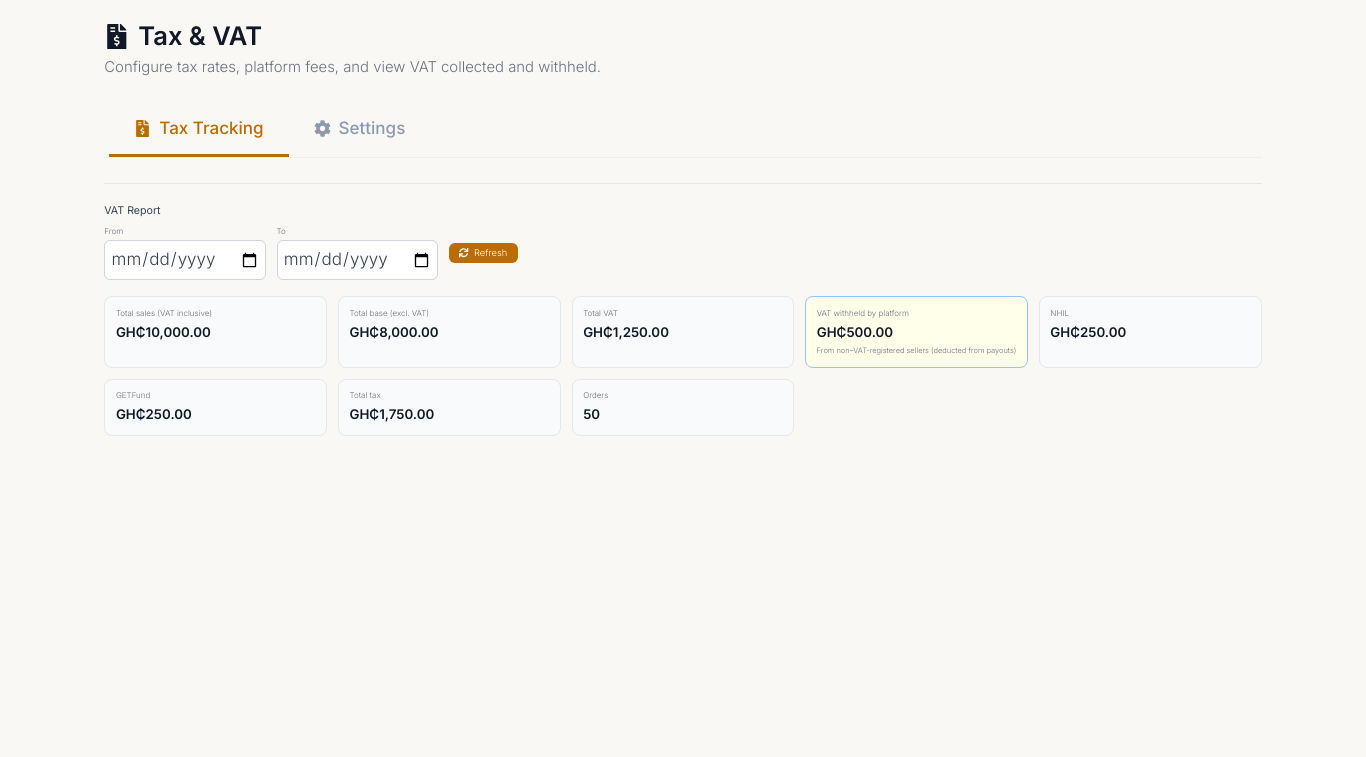
Scenario: TaxReportPage › switches to settings tab and allows changing rates
Click the text "Settings". click: {"x": 359, "y": 128}
box: top-left (314, 118), bottom-right (405, 138)
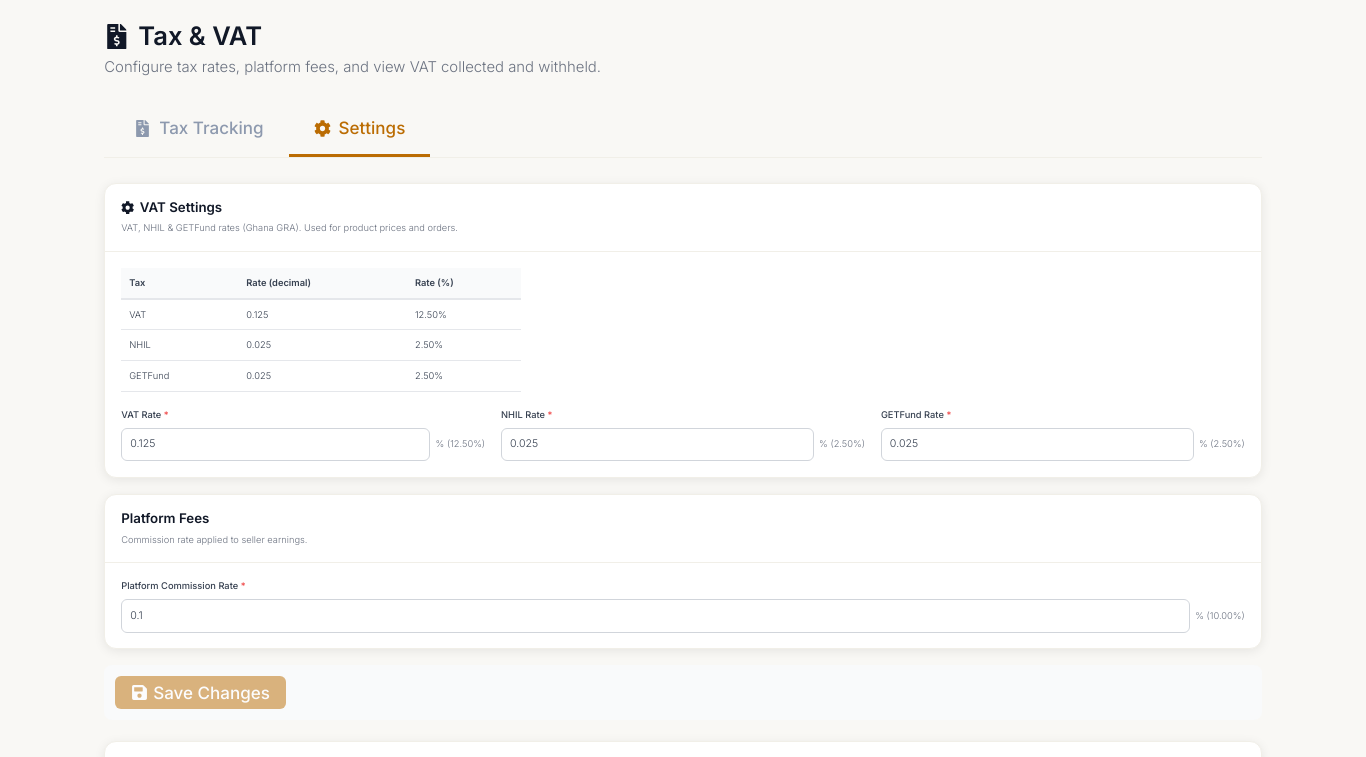
Check: the heading "VAT Settings" is shown, box top-left (121, 198), bottom-right (222, 214)
Replace the text in the number field showing "0.125" below "VAT Rate" with "0.15". click: {"x": 276, "y": 444}
box: top-left (121, 428), bottom-right (430, 461)
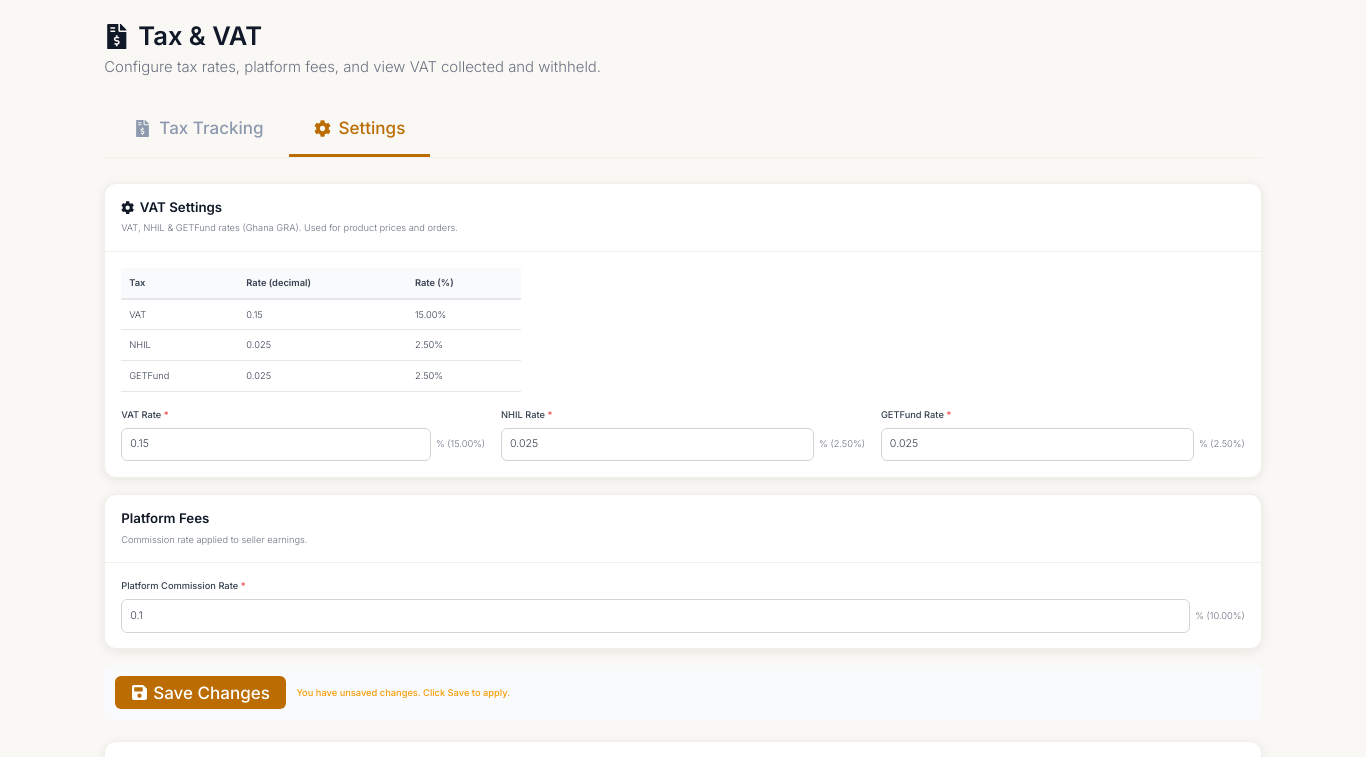
Check: the text "You have unsaved changes. Click Save to apply." is shown, box top-left (296, 686), bottom-right (510, 700)
